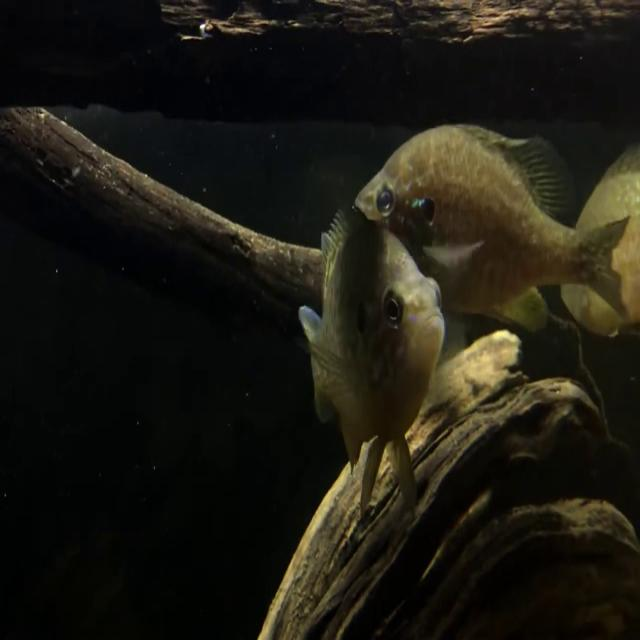Gunes Levregi: (351, 120, 635, 338), (296, 205, 446, 522)
